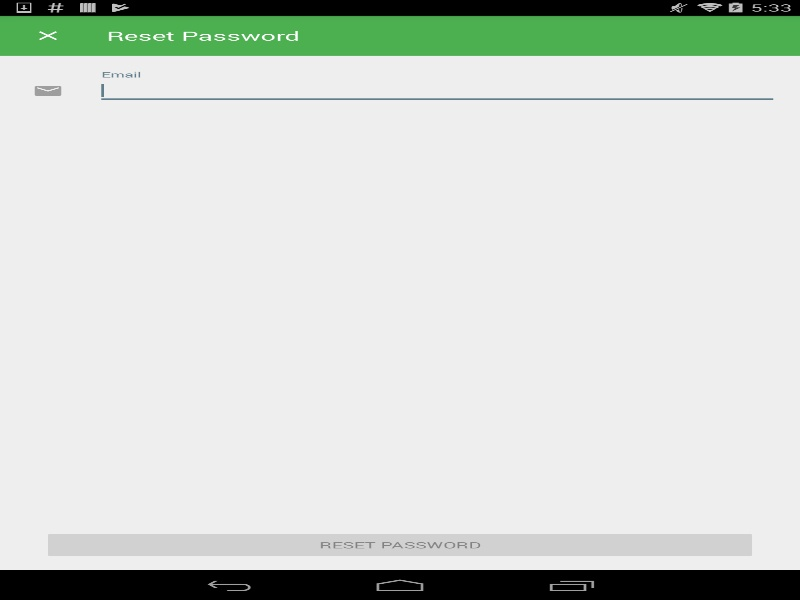Button: (42, 530, 757, 560), (10, 15, 85, 55)
Input: (96, 77, 778, 104)
